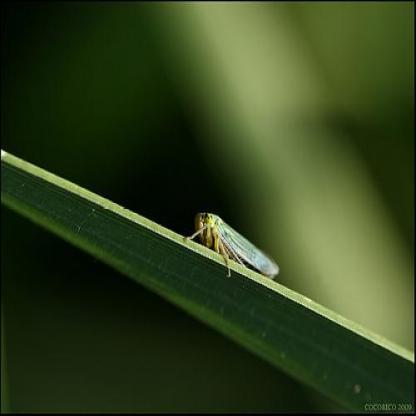Green-Leafhopper: (183, 209, 279, 286)
